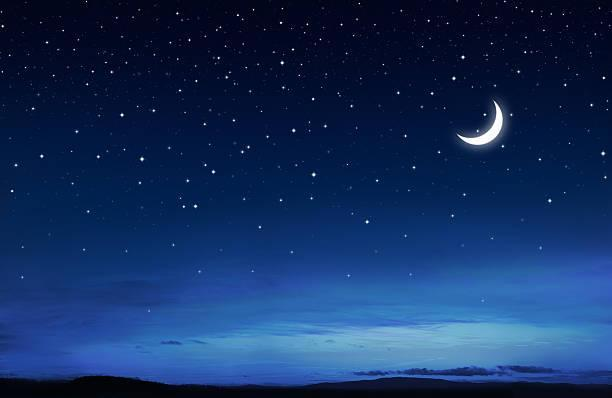moon: (438, 88, 508, 152)
